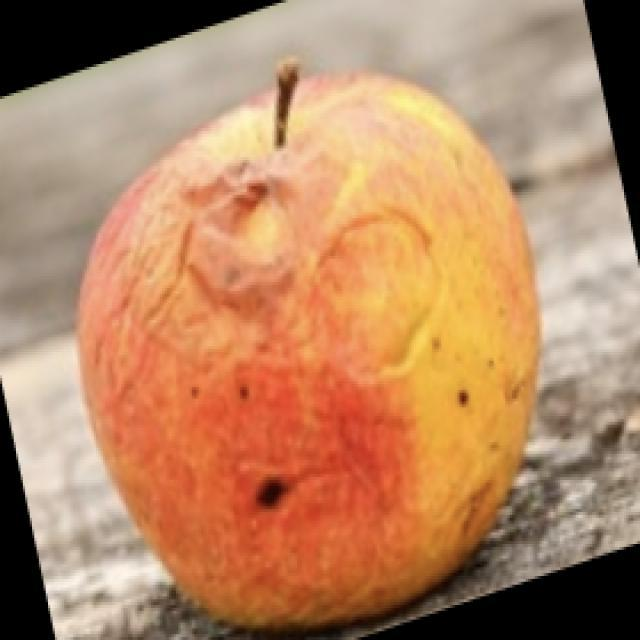Rotten: (60, 70, 565, 627)
